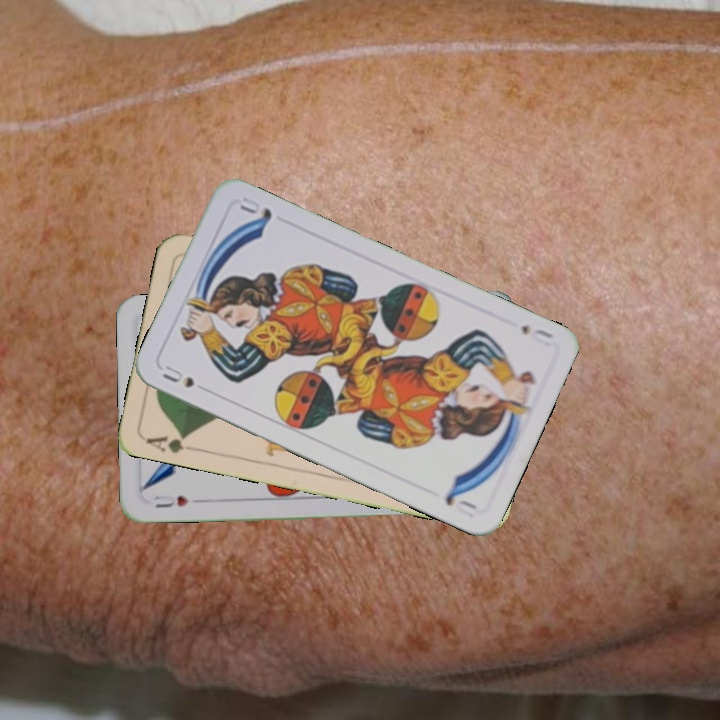GA: (141, 429, 191, 456)
HU: (150, 491, 191, 510)
SU: (158, 361, 197, 391), (517, 321, 557, 349)
